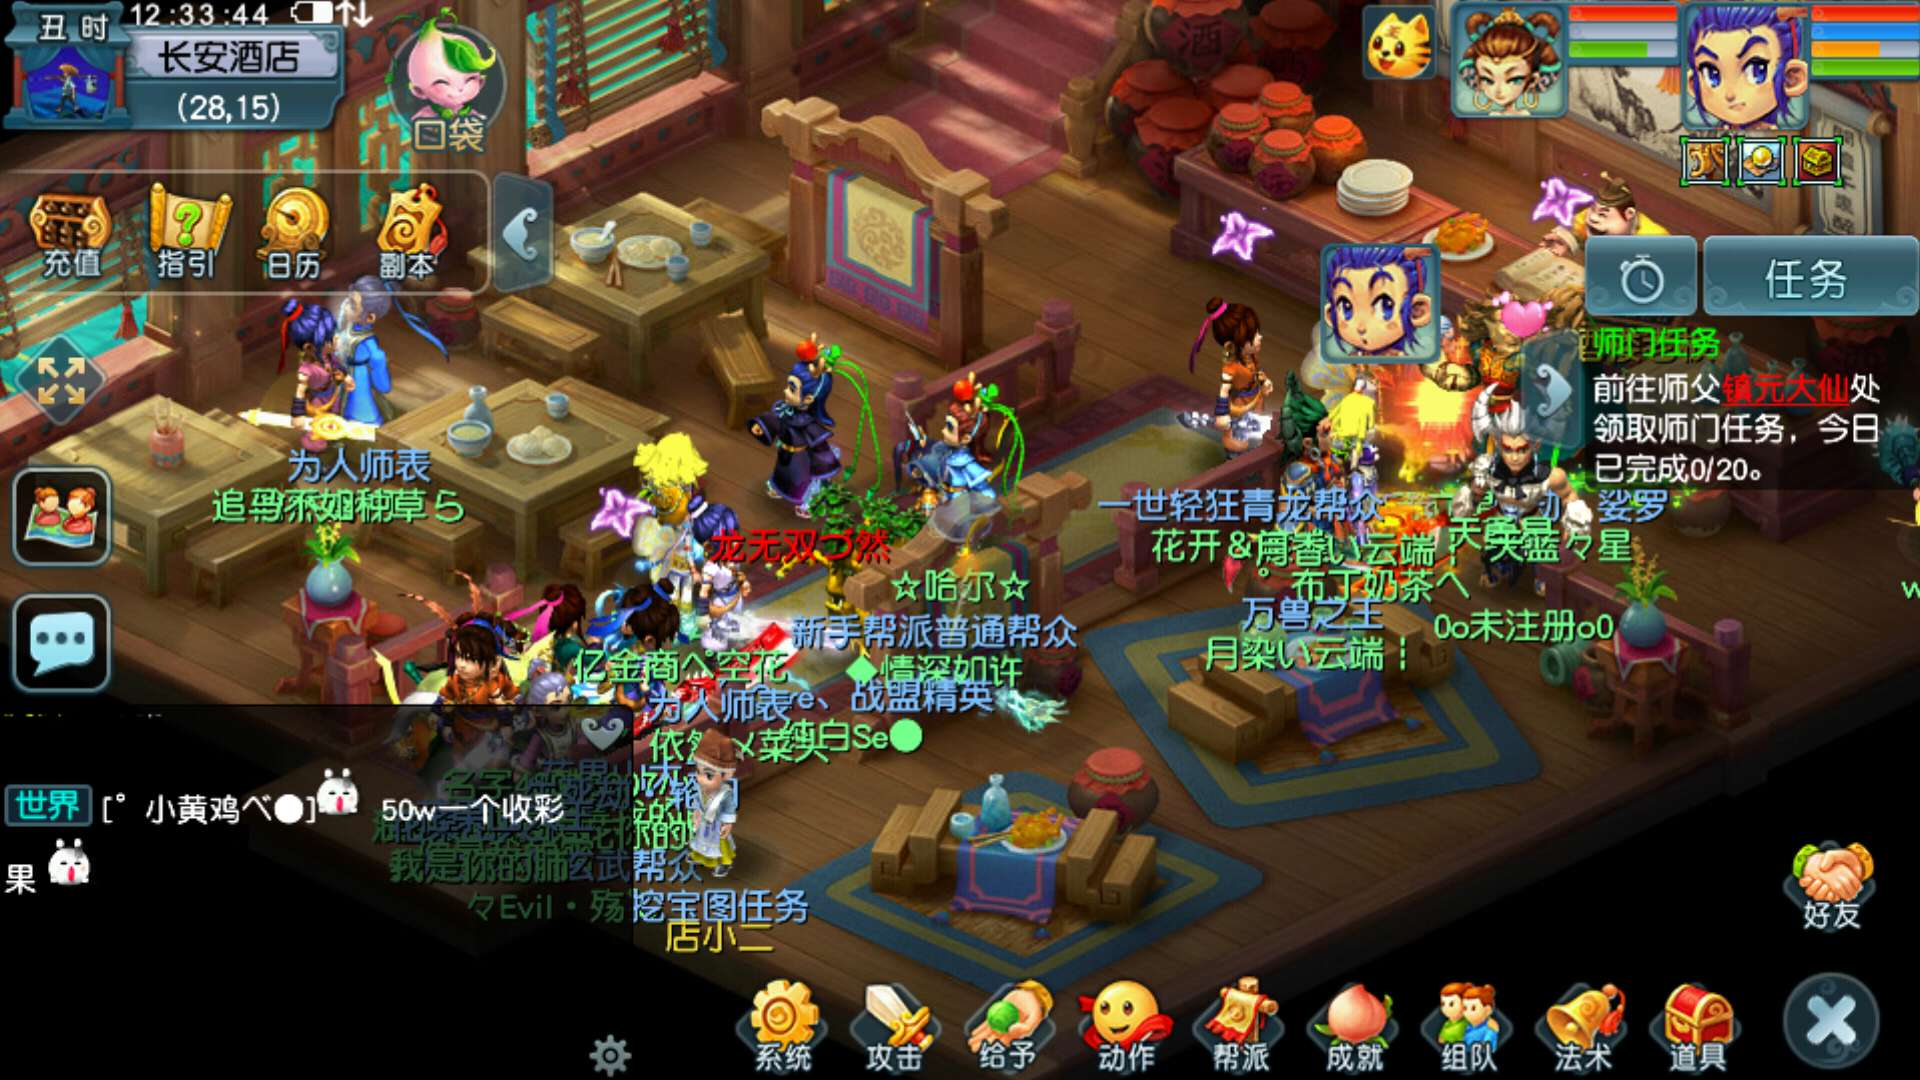丑时: (26, 4, 119, 45)
任务: (1747, 253, 1876, 301)
前: (1592, 371, 1625, 404)
取: (1625, 411, 1658, 444)
处: (1849, 371, 1883, 407)
师父: (1658, 373, 1724, 405)
师门任务: (1592, 326, 1726, 357)
往: (1625, 373, 1658, 404)
镇元大仙: (1722, 372, 1849, 409)
长安酒店: (156, 33, 313, 80)
领: (1592, 411, 1625, 444)
